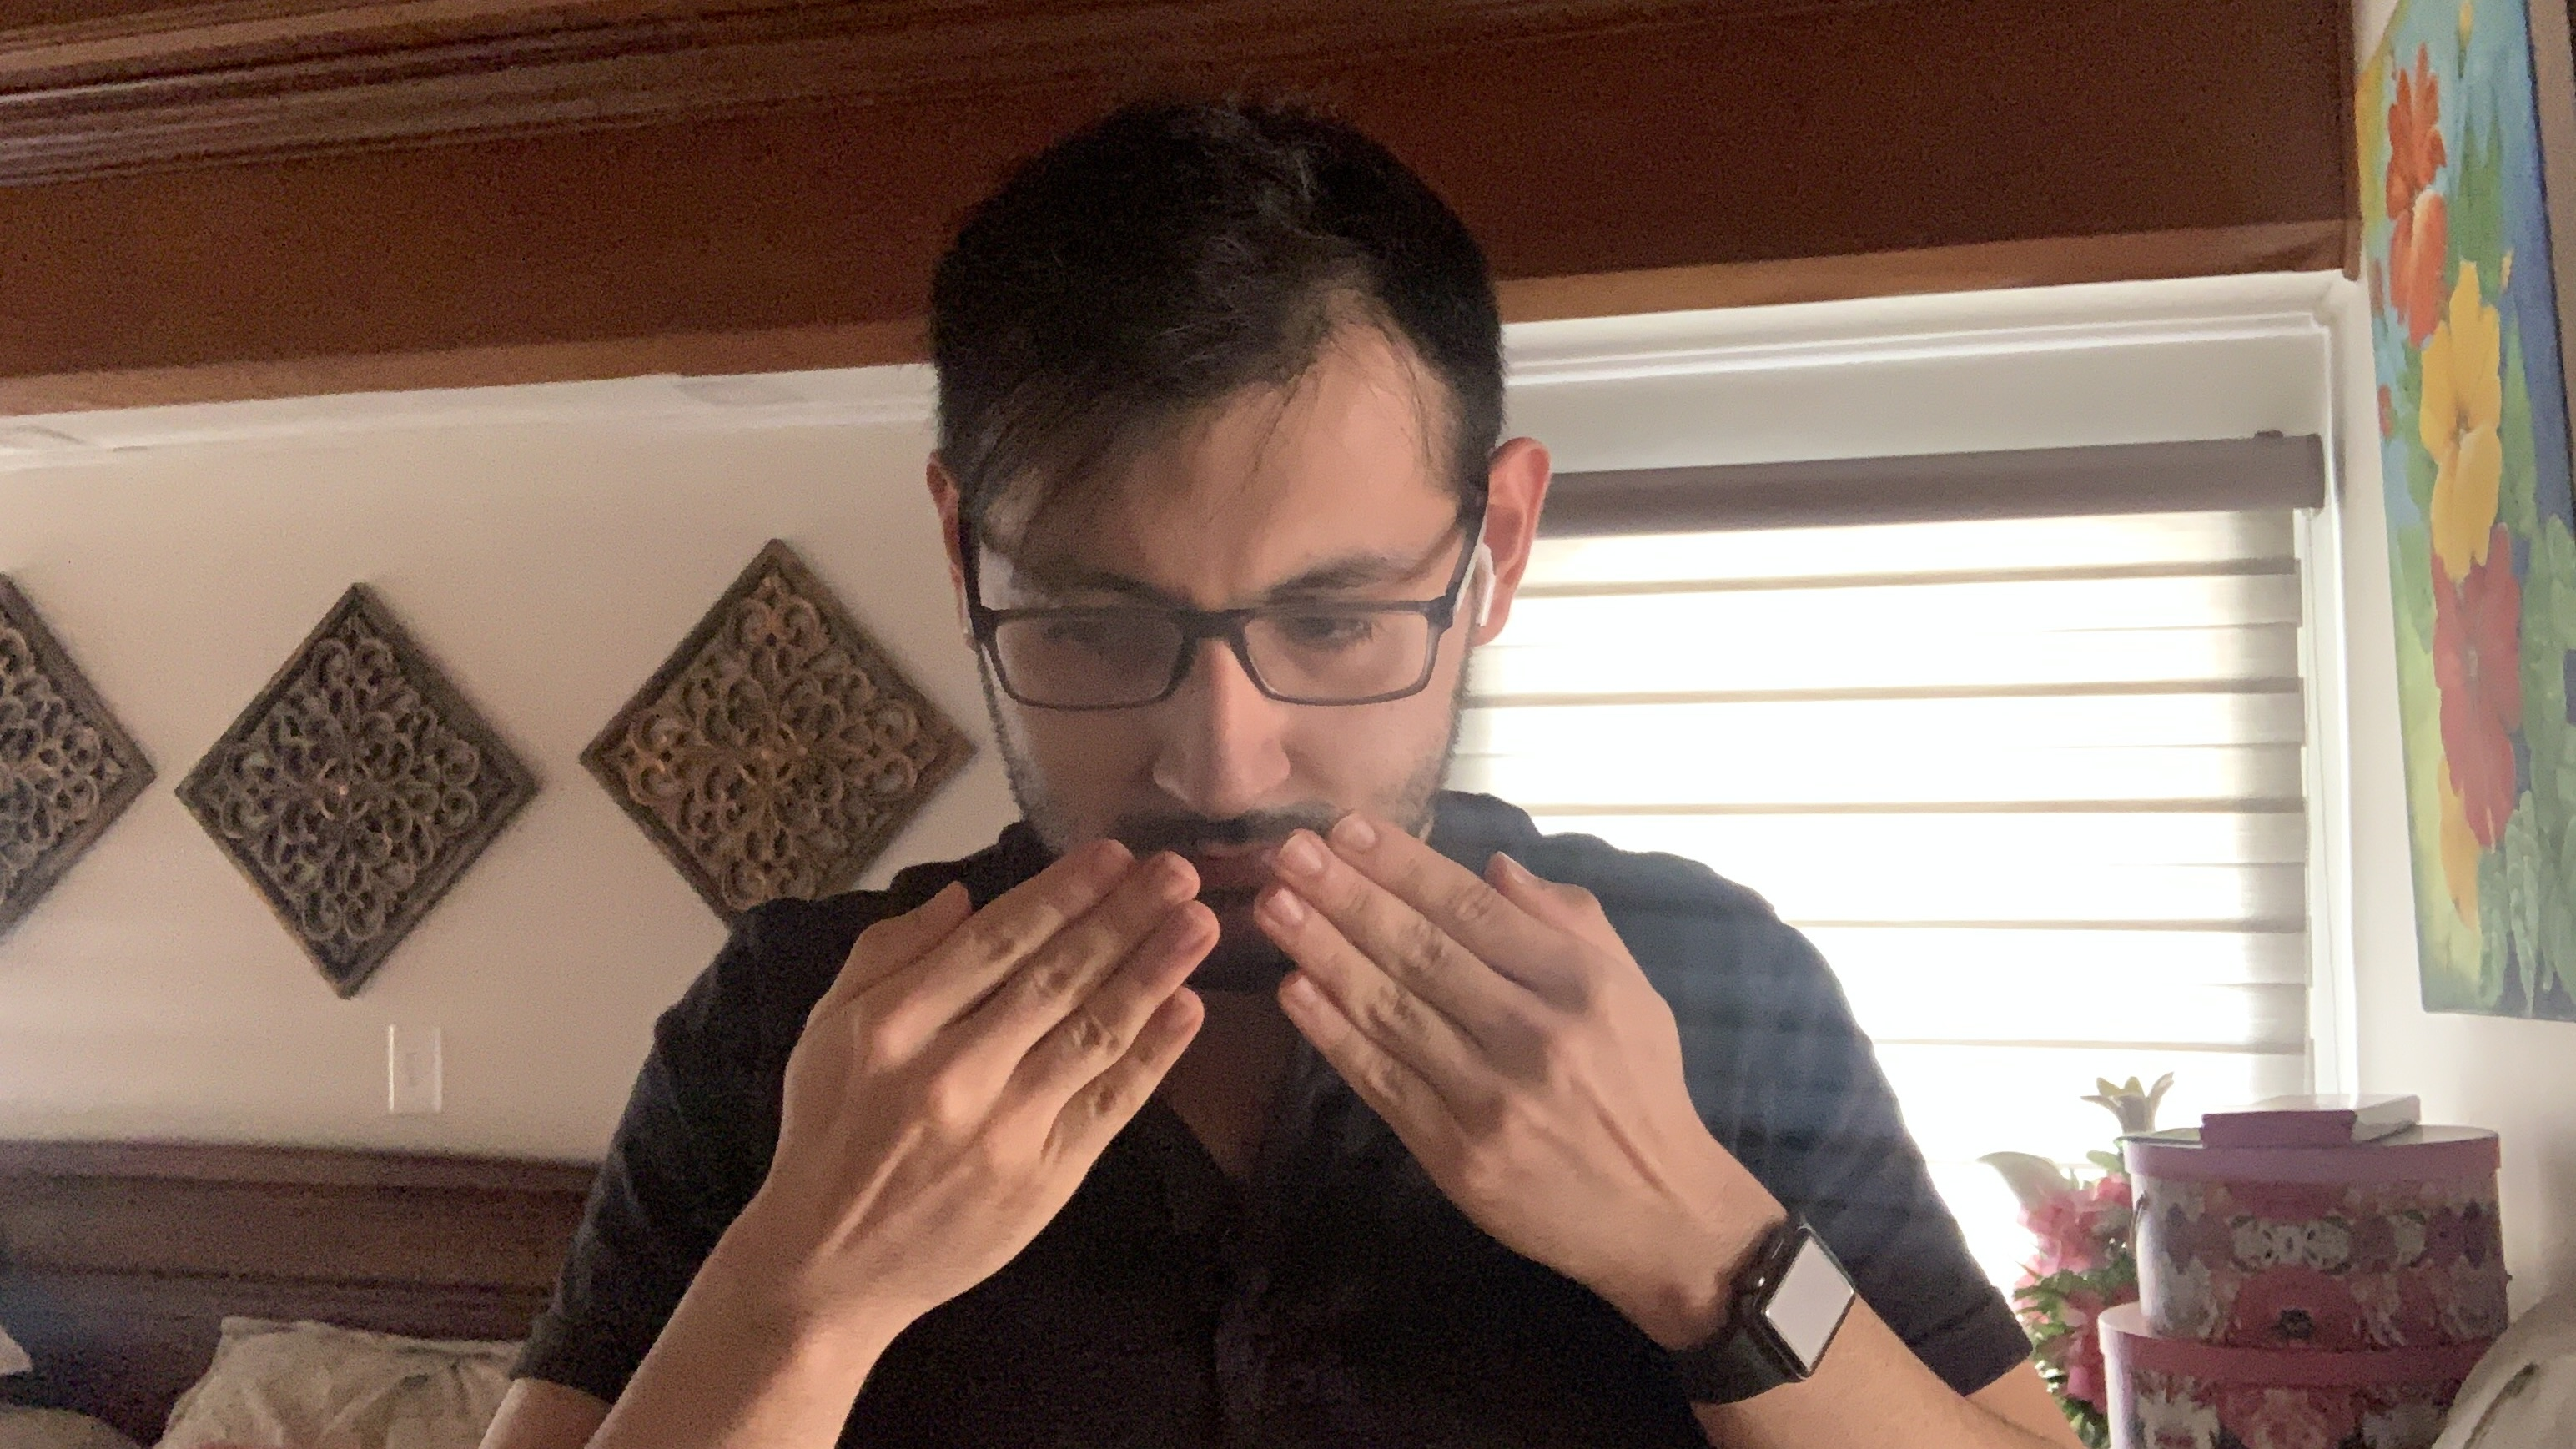Thank You: (759, 805, 1711, 1277)
